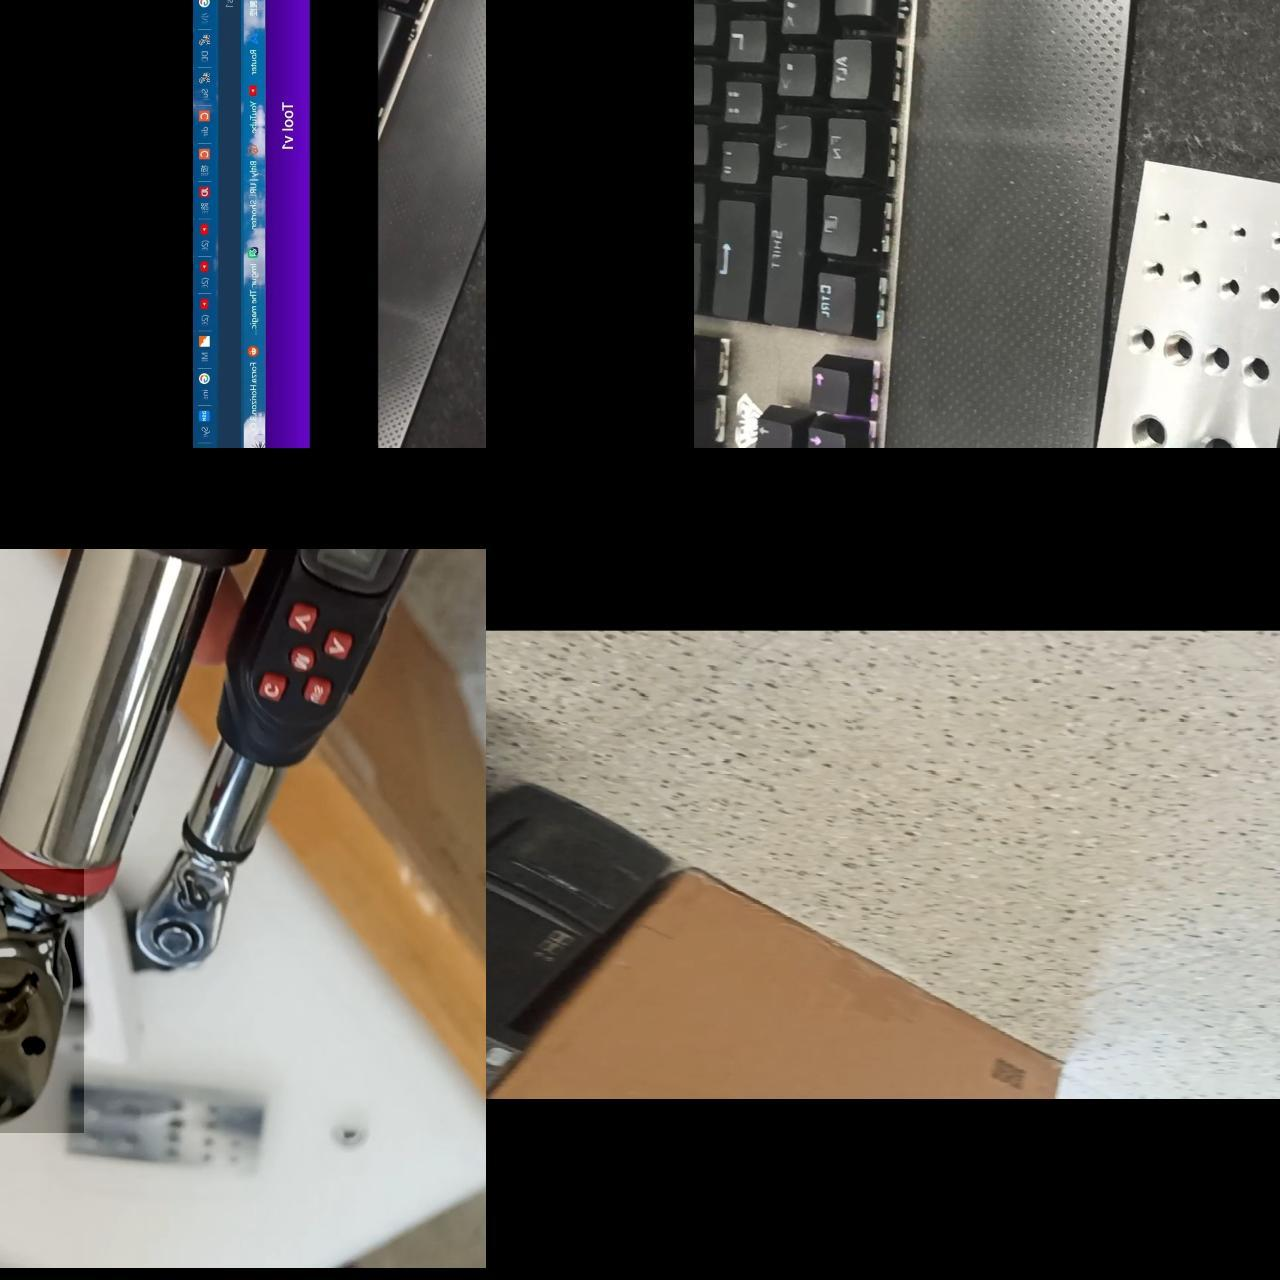Tool: (0, 869, 84, 1132), (132, 857, 241, 972)
